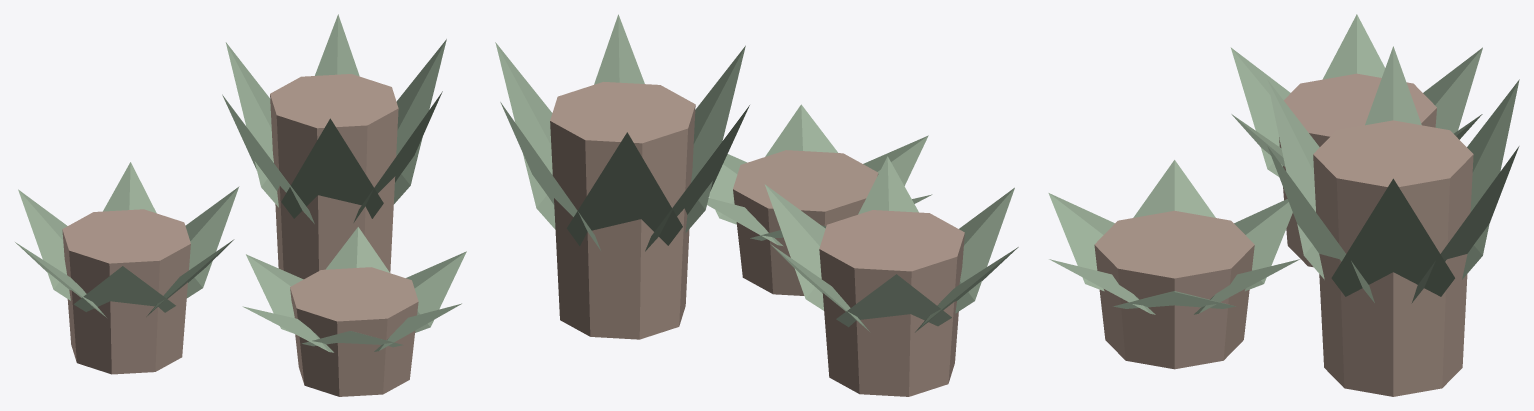
File: map-exclusive-v3__tide_09.glb
The picture shows the model from 3 angles, left to right: view 1: azimuth 30°, elevation 25°; view 2: azimuth 150°, elevation 25°; view 3: azimuth 270°, elevation 25°; orthographic projection. The views are drawn at different scales.
Parts seen in each view (by area): view 1: tide_09; view 2: tide_09; view 3: tide_09.
Boxes of the visible parts, <box> form: tide_09: <box>15,14,466,396</box>; tide_09: <box>495,14,1018,396</box>; tide_09: <box>1048,14,1519,396</box>.
Size of the model in its own units: 1.71 by 0.8158 by 1.29.
